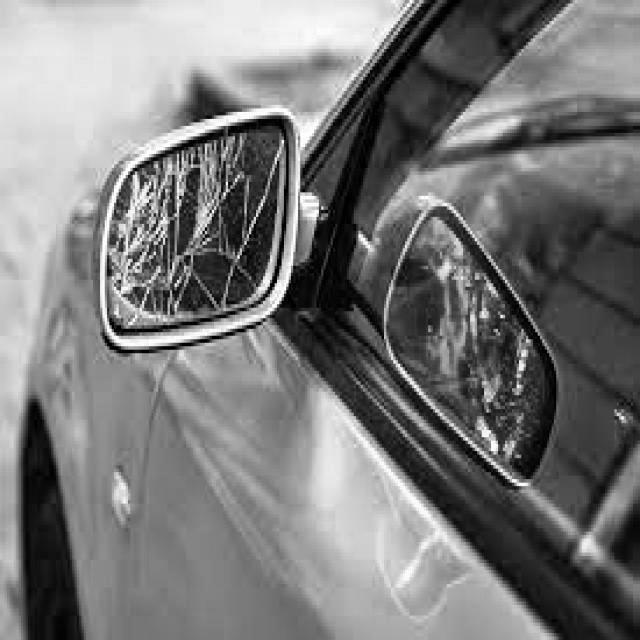Sidemirror-Damage: (86, 102, 332, 371)
